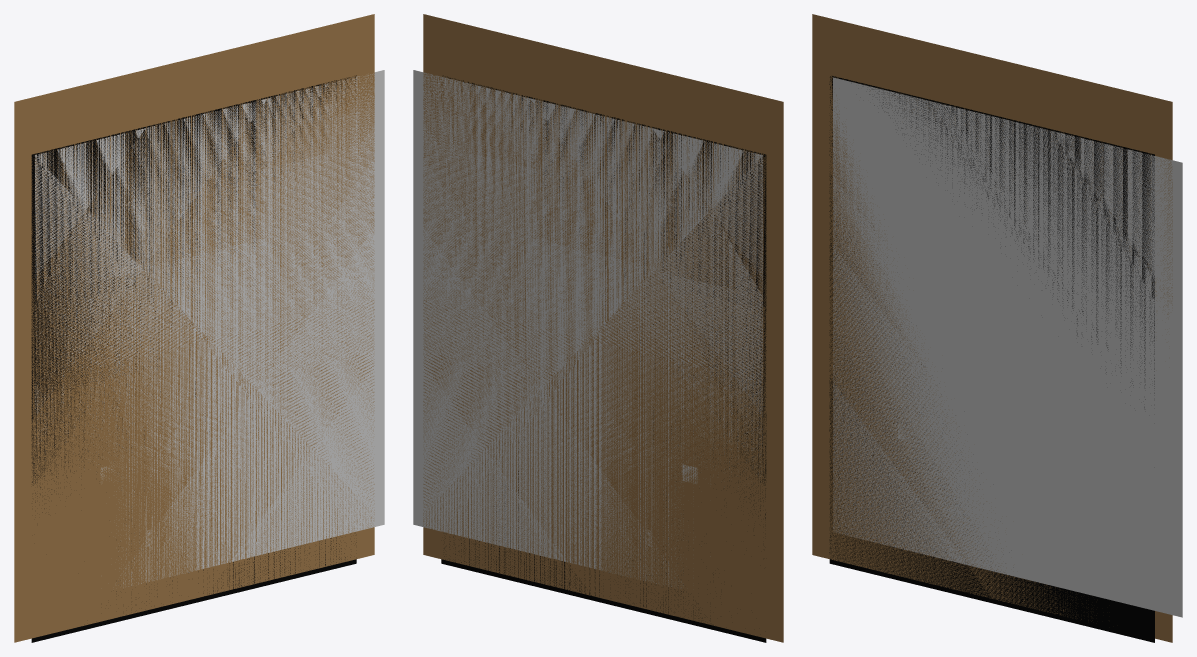
File: Skeleton Prefab Mesh _Eb_GoldGoblin_01_.glb
3 renders of one model, left to right at view 1: azimuth 30°, elevation 25°; view 2: azimuth 150°, elevation 25°; view 3: azimuth 330°, elevation 25°, orthographic.
Visible parts, largest first — view 1: Skeleton Prefab Mesh "Eb_GoldGoblin_01"; view 2: Skeleton Prefab Mesh "Eb_GoldGoblin_01"; view 3: Skeleton Prefab Mesh "Eb_GoldGoblin_01".
Part boxes in pixels (left/top/right/bottom): Skeleton Prefab Mesh "Eb_GoldGoblin_01": left=14, top=14, right=384, bottom=642; Skeleton Prefab Mesh "Eb_GoldGoblin_01": left=413, top=14, right=783, bottom=642; Skeleton Prefab Mesh "Eb_GoldGoblin_01": left=812, top=14, right=1182, bottom=642.
Bounding box in the file's own units: 6.94 × 9.76 × 0.
